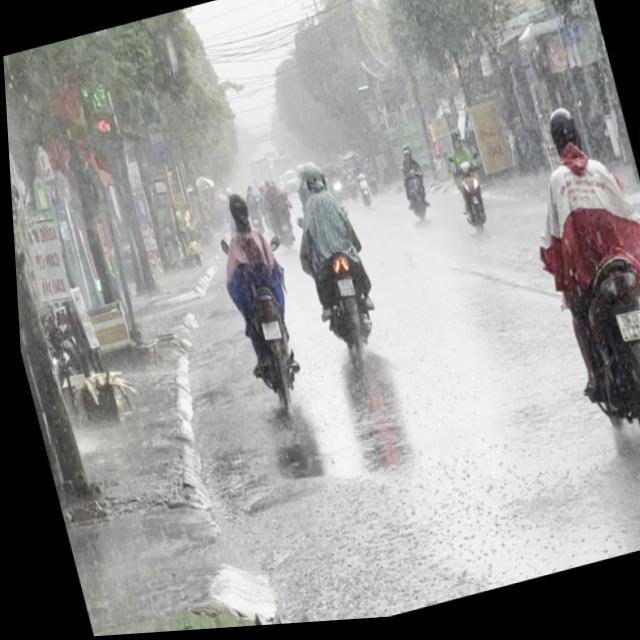helmet: (542, 109, 584, 166), (222, 191, 252, 236), (299, 162, 324, 198)
licenseplate: (503, 94, 640, 481), (200, 183, 313, 420), (277, 153, 387, 372)
nohelmet: (612, 316, 640, 350), (257, 321, 278, 343), (334, 281, 352, 301)
